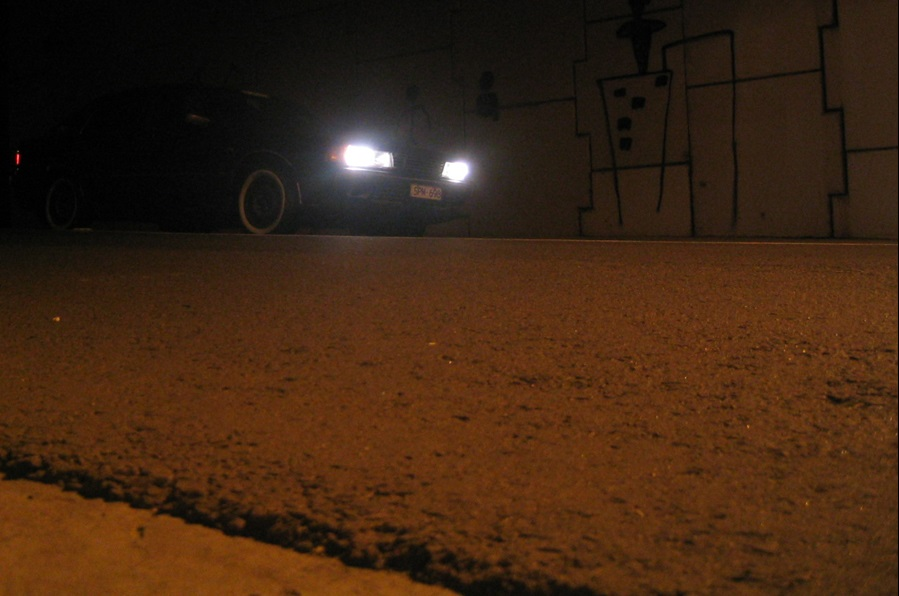car: (13, 71, 483, 247)
